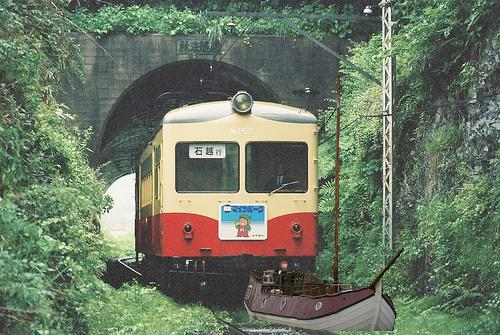tampered: (244, 73, 404, 331)
